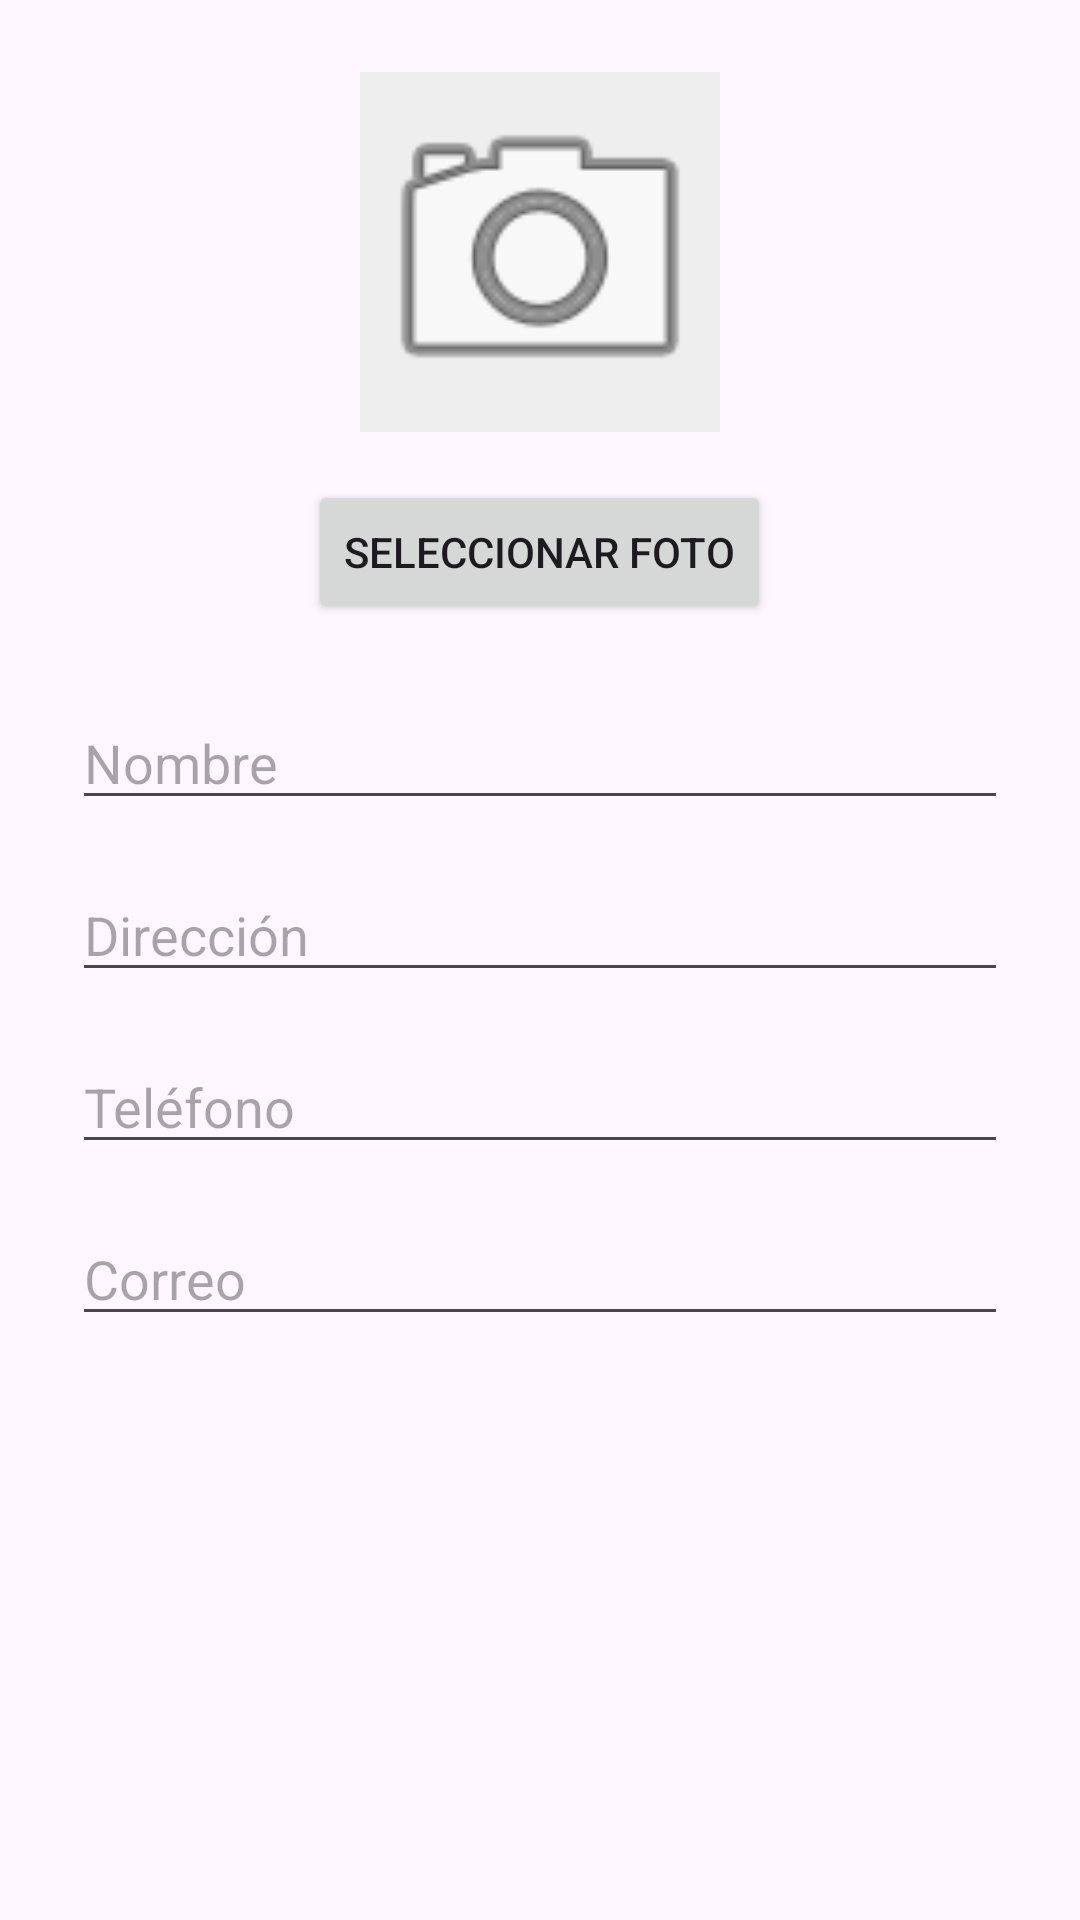

Icons on this 1080px×1920px Android screen, each with the point to tap as (x,y):
camera: (540,252)
